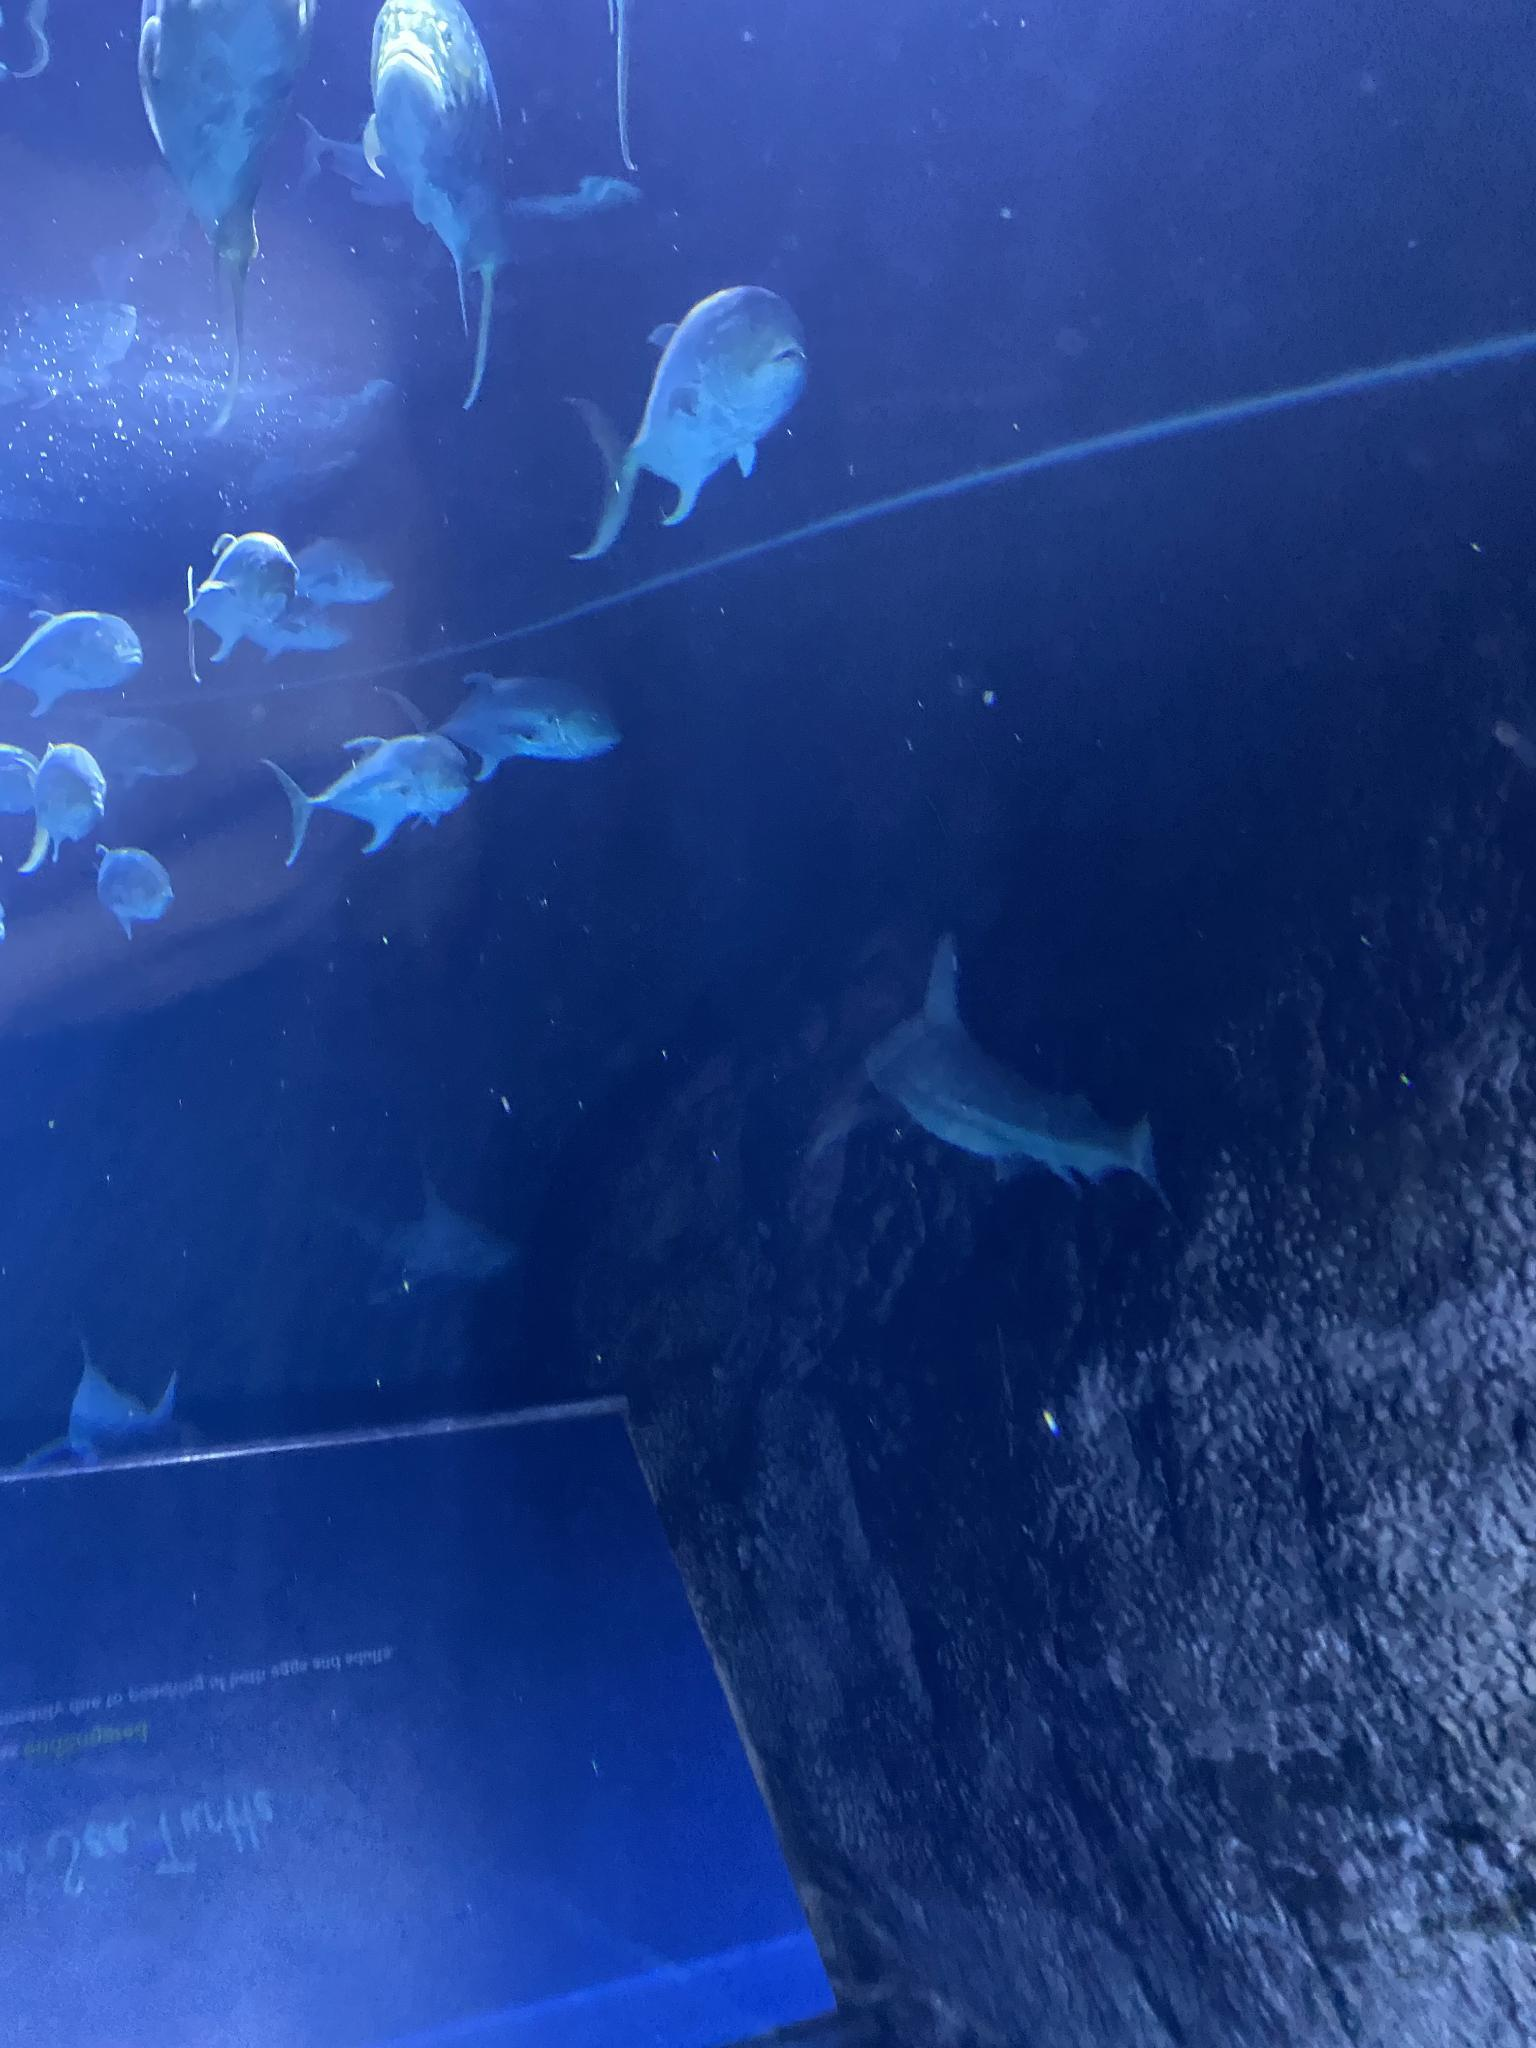fish: (565, 284, 808, 560), (363, 5, 508, 414), (137, 0, 316, 331), (373, 671, 620, 784), (261, 734, 470, 868), (182, 532, 297, 684), (0, 610, 144, 718), (18, 740, 103, 872), (82, 710, 198, 795), (94, 843, 177, 943), (245, 598, 352, 664), (295, 539, 397, 606)
shark: (802, 935, 1179, 1214), (340, 1164, 521, 1309), (11, 1342, 198, 1476)
